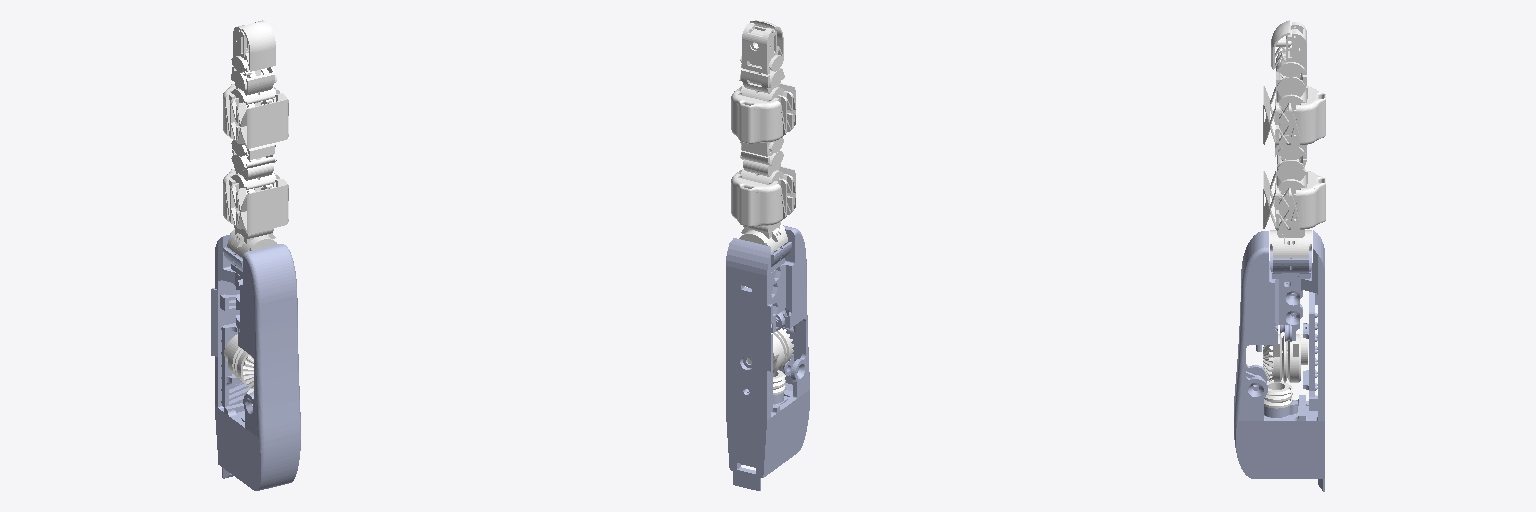
robot.urdf — finger_mujoco:
<?xml version="1.0" encoding="utf-8"?>
<!-- This URDF was automatically created by SolidWorks to URDF Exporter! Originally created by Stephen Brawner (brawner@gmail.com) 
     Commit Version: 1.6.0-4-g7f85cfe  Build Version: 1.6.7995.38578
     For more information, please see http://wiki.ros.org/sw_urdf_exporter -->
<robot
  name="finger_mujoco">
  <mujoco>
    <compiler meshdir="meshes/"
              balanceinertia="true"
              strippath="false"/>
  </mujoco>
  <link
    name="palm_link">
    <inertial>
      <origin
        xyz="3.095E-05 -0.018207 0.055563"
        rpy="0 0 0" />
      <mass
        value="0.03804" />
      <inertia
        ixx="3.3736E-05"
        ixy="1.4396E-08"
        ixz="-1.8165E-08"
        iyy="3.0294E-05"
        iyz="-4.5681E-07"
        izz="5.8025E-06" />
    </inertial>
    <visual>
      <origin
        xyz="0 0 0"
        rpy="0 0 0" />
      <geometry>
        <mesh
          filename="palm_link.STL" />
      </geometry>
      <material
        name="">
        <color
          rgba="0.79216 0.81961 0.93333 1" />
      </material>
    </visual>
    <collision>
      <origin
        xyz="0 0 0"
        rpy="0 0 0" />
      <geometry>
        <mesh
          filename="palm_link.STL" />
      </geometry>
    </collision>
  </link>
  <link
    name="servo_pulley_link">
    <inertial>
      <origin
        xyz="1.7347E-18 0.0033461 3.4694E-18"
        rpy="0 0 0" />
      <mass
        value="0.00064912" />
      <inertia
        ixx="1.1532E-08"
        ixy="8.4169E-25"
        ixz="2.0525E-10"
        iyy="1.7526E-08"
        iyz="-1.34E-24"
        izz="1.1469E-08" />
    </inertial>
    <visual>
      <origin
        xyz="0 0 0"
        rpy="0 0 0" />
      <geometry>
        <mesh
          filename="servo_pulley_link.STL" />
      </geometry>
      <material
        name="">
        <color
          rgba="1 1 1 1" />
      </material>
    </visual>
    <collision>
      <origin
        xyz="0 0 0"
        rpy="0 0 0" />
      <geometry>
        <mesh
          filename="servo_pulley_link.STL" />
      </geometry>
    </collision>
  </link>
  <joint
    name="joint_servo"
    type="continuous">
    <origin
      xyz="0.00010005 -0.0199 0.038"
      rpy="1.5708 0 0.41034" />
    <parent
      link="palm_link" />
    <child
      link="servo_pulley_link" />
    <axis
      xyz="0 1 0" />
    <limit
      lower="-1.57"
      upper="1.57"
      effort="0"
      velocity="0" />
  </joint>
  <link
    name="motor_pulley_link">
    <inertial>
      <origin
        xyz="-0.00028931 0.0095592 -0.00028355"
        rpy="0 0 0" />
      <mass
        value="0.0053624" />
      <inertia
        ixx="2.4087E-07"
        ixy="-1.1788E-08"
        ixz="-1.6646E-08"
        iyy="2.5237E-07"
        iyz="-1.1554E-08"
        izz="2.4154E-07" />
    </inertial>
    <visual>
      <origin
        xyz="0 0 0"
        rpy="0 0 0" />
      <geometry>
        <mesh
          filename="motor_pulley_link.STL" />
      </geometry>
      <material
        name="">
        <color
          rgba="1 1 1 1" />
      </material>
    </visual>
    <collision>
      <origin
        xyz="0 0 0"
        rpy="0 0 0" />
      <geometry>
        <mesh
          filename="motor_pulley_link.STL" />
      </geometry>
    </collision>
  </link>
  <joint
    name="joint_motor"
    type="continuous">
    <origin
      xyz="0 -0.0065 0.0575"
      rpy="3.1416 0.012337 0" />
    <parent
      link="palm_link" />
    <child
      link="motor_pulley_link" />
    <axis
      xyz="0 1 0" />
    <limit
      lower="-3.12"
      upper="3.12"
      effort="0"
      velocity="0" />
  </joint>
  <link
    name="phalanx1_link1_abd">
    <inertial>
      <origin
        xyz="-5.9722E-05 -0.0084809 -0.0081966"
        rpy="0 0 0" />
      <mass
        value="0.0025141" />
      <inertia
        ixx="6.0121E-08"
        ixy="3.0279E-10"
        ixz="-2.3517E-09"
        iyy="6.5393E-08"
        iyz="1.1194E-09"
        izz="9.328E-08" />
    </inertial>
    <visual>
      <origin
        xyz="0 0 0"
        rpy="0 0 0" />
      <geometry>
        <mesh
          filename="phalanx1_link1_abd.STL" />
      </geometry>
      <material
        name="">
        <color
          rgba="1 1 1 1" />
      </material>
    </visual>
    <collision>
      <origin
        xyz="0 0 0"
        rpy="0 0 0" />
      <geometry>
        <mesh
          filename="phalanx1_link1_abd.STL" />
      </geometry>
    </collision>
  </link>
  <joint
    name="joint0_abd"
    type="revolute">
    <origin
      xyz="0.00025 -0.0054079 0.10695"
      rpy="3.1416 0 3.1416" />
    <parent
      link="palm_link" />
    <child
      link="phalanx1_link1_abd" />
    <axis
      xyz="0 1 0" />
    <limit
      lower="-0.7"
      upper="0.7"
      effort="0"
      velocity="0" />
  </joint>
  <link
    name="phalanx_link1_prx">
    <inertial>
      <origin
        xyz="0.0031611 0.00033176 -0.0057507"
        rpy="0 0 0" />
      <mass
        value="0.0059145" />
      <inertia
        ixx="3.5462E-07"
        ixy="1.5123E-10"
        ixz="2.5381E-09"
        iyy="3.7855E-07"
        iyz="3.2223E-10"
        izz="5.0077E-07" />
    </inertial>
    <visual>
      <origin
        xyz="0 0 0"
        rpy="0 0 0" />
      <geometry>
        <mesh
          filename="phalanx_link1_prx.STL" />
      </geometry>
      <material
        name="">
        <color
          rgba="1 1 1 1" />
      </material>
    </visual>
    <collision>
      <origin
        xyz="0 0 0"
        rpy="0 0 0" />
      <geometry>
        <mesh
          filename="phalanx_link1_prx.STL" />
      </geometry>
    </collision>
  </link>
  <joint
    name="joint1_prx"
    type="revolute">
    <origin
      xyz="0 -0.0085921 -0.01705"
      rpy="0 0 1.5708" />
    <parent
      link="phalanx1_link1_abd" />
    <child
      link="phalanx_link1_prx" />
    <axis
      xyz="0 1 0" />
    <limit
      lower="-0.7"
      upper="0.7"
      effort="0"
      velocity="0" />
  </joint>
  <link
    name="phalanx1_link2_prx">
    <inertial>
      <origin
        xyz="0.00029466 0.00025493 -0.0078726"
        rpy="0 0 0" />
      <mass
        value="0.002014" />
      <inertia
        ixx="4.8364E-08"
        ixy="1.488E-10"
        ixz="1.2553E-10"
        iyy="3.3878E-08"
        iyz="1.3325E-09"
        izz="5.9571E-08" />
    </inertial>
    <visual>
      <origin
        xyz="0 0 0"
        rpy="0 0 0" />
      <geometry>
        <mesh
          filename="phalanx1_link2_prx.STL" />
      </geometry>
      <material
        name="">
        <color
          rgba="1 1 1 1" />
      </material>
    </visual>
    <collision>
      <origin
        xyz="0 0 0"
        rpy="0 0 0" />
      <geometry>
        <mesh
          filename="phalanx1_link2_prx.STL" />
      </geometry>
    </collision>
  </link>
  <joint
    name="joint2_prx"
    type="revolute">
    <origin
      xyz="0 0 -0.0114"
      rpy="0 0 0" />
    <parent
      link="phalanx_link1_prx" />
    <child
      link="phalanx1_link2_prx" />
    <axis
      xyz="0 1 0" />
    <limit
      lower="-0.7"
      upper="0.7"
      effort="0"
      velocity="0" />
  </joint>
  <link
    name="phalanx_link1_int">
    <inertial>
      <origin
        xyz="0.00043592 0.00033932 -0.005629"
        rpy="0 0 0" />
      <mass
        value="0.0015511" />
      <inertia
        ixx="4.1412E-08"
        ixy="1.0185E-09"
        ixz="7.2498E-10"
        iyy="3.6368E-08"
        iyz="3.0891E-10"
        izz="5.6225E-08" />
    </inertial>
    <visual>
      <origin
        xyz="0 0 0"
        rpy="0 0 0" />
      <geometry>
        <mesh
          filename="phalanx_link1_int.STL" />
      </geometry>
      <material
        name="">
        <color
          rgba="1 1 1 1" />
      </material>
    </visual>
    <collision>
      <origin
        xyz="0 0 0"
        rpy="0 0 0" />
      <geometry>
        <mesh
          filename="phalanx_link1_int.STL" />
      </geometry>
    </collision>
  </link>
  <joint
    name="joint3_int"
    type="revolute">
    <origin
      xyz="0 0 -0.01555"
      rpy="0 0 0" />
    <parent
      link="phalanx1_link2_prx" />
    <child
      link="phalanx_link1_int" />
    <axis
      xyz="0 1 0" />
    <limit
      lower="-0.7"
      upper="0.7"
      effort="0"
      velocity="0" />
  </joint>
  <link
    name="phalanx_link2_int">
    <inertial>
      <origin
        xyz="0.0033404 0.00030416 -0.0057723"
        rpy="0 0 0" />
      <mass
        value="0.0057585" />
      <inertia
        ixx="3.4985E-07"
        ixy="-1.1057E-09"
        ixz="1.622E-09"
        iyy="3.7085E-07"
        iyz="6.9298E-10"
        izz="4.8937E-07" />
    </inertial>
    <visual>
      <origin
        xyz="0 0 0"
        rpy="0 0 0" />
      <geometry>
        <mesh
          filename="phalanx_link2_int.STL" />
      </geometry>
      <material
        name="">
        <color
          rgba="1 1 1 1" />
      </material>
    </visual>
    <collision>
      <origin
        xyz="0 0 0"
        rpy="0 0 0" />
      <geometry>
        <mesh
          filename="phalanx_link2_int.STL" />
      </geometry>
    </collision>
  </link>
  <joint
    name="joint4_int"
    type="revolute">
    <origin
      xyz="0 0 -0.0114"
      rpy="0 0 0" />
    <parent
      link="phalanx_link1_int" />
    <child
      link="phalanx_link2_int" />
    <axis
      xyz="0 1 0" />
    <limit
      lower="-0.7"
      upper="0.7"
      effort="0"
      velocity="0" />
  </joint>
  <link
    name="phalanx_link3_int">
    <inertial>
      <origin
        xyz="9.7987E-05 -0.00025512 0.0076047"
        rpy="0 0 0" />
      <mass
        value="0.0019386" />
      <inertia
        ixx="4.7362E-08"
        ixy="-1.0401E-10"
        ixz="6.6045E-10"
        iyy="3.3402E-08"
        iyz="1.2609E-09"
        izz="6.1046E-08" />
    </inertial>
    <visual>
      <origin
        xyz="0 0 0"
        rpy="0 0 0" />
      <geometry>
        <mesh
          filename="phalanx_link3_int.STL" />
      </geometry>
      <material
        name="">
        <color
          rgba="1 1 1 1" />
      </material>
    </visual>
    <collision>
      <origin
        xyz="0 0 0"
        rpy="0 0 0" />
      <geometry>
        <mesh
          filename="phalanx_link3_int.STL" />
      </geometry>
    </collision>
  </link>
  <joint
    name="joint5_int"
    type="revolute">
    <origin
      xyz="0 0 -0.0114"
      rpy="3.1416 0 0" />
    <parent
      link="phalanx_link2_int" />
    <child
      link="phalanx_link3_int" />
    <axis
      xyz="0 1 0" />
    <limit
      lower="-0.7"
      upper="0.7"
      effort="0"
      velocity="0" />
  </joint>
  <link
    name="phalanx_link1_dis">
    <inertial>
      <origin
        xyz="-0.00010858 0.00025287 -0.0094074"
        rpy="0 0 0" />
      <mass
        value="0.0023104" />
      <inertia
        ixx="9.5883E-08"
        ixy="4.6265E-11"
        ixz="-5.4334E-10"
        iyy="9.9427E-08"
        iyz="-1.2984E-11"
        izz="7.7015E-08" />
    </inertial>
    <visual>
      <origin
        xyz="0 0 0"
        rpy="0 0 0" />
      <geometry>
        <mesh
          filename="phalanx_link1_dis.STL" />
      </geometry>
      <material
        name="">
        <color
          rgba="1 1 1 1" />
      </material>
    </visual>
    <collision>
      <origin
        xyz="0 0 0"
        rpy="0 0 0" />
      <geometry>
        <mesh
          filename="phalanx_link1_dis.STL" />
      </geometry>
    </collision>
  </link>
  <joint
    name="joint6_dis"
    type="revolute">
    <origin
      xyz="0 0 0.0149"
      rpy="3.1416 0 0" />
    <parent
      link="phalanx_link3_int" />
    <child
      link="phalanx_link1_dis" />
    <axis
      xyz="0 1 0" />
    <limit
      lower="-0.7"
      upper="0.7"
      effort="0"
      velocity="0" />
  </joint>
</robot>

--- Facts derived from the render (not from the file) ---
The picture shows the robot from 3 angles, left to right: view 1: azimuth 30°, elevation 25°; view 2: azimuth 150°, elevation 25°; view 3: azimuth 270°, elevation 25°; orthographic projection.
Robot: finger_mujoco — 10 links, 9 joints (7 revolute, 2 continuous); root link palm_link; default pose: all joints at 0.
Visible links, largest first — view 1: palm_link, phalanx_link2_int, phalanx_link1_prx, phalanx_link1_dis, phalanx_link3_int, phalanx1_link2_prx, motor_pulley_link, phalanx1_link1_abd; view 2: palm_link, phalanx_link1_prx, phalanx_link2_int, phalanx_link1_dis, phalanx1_link2_prx, phalanx_link3_int, phalanx1_link1_abd, motor_pulley_link; view 3: palm_link, phalanx_link1_prx, phalanx_link2_int, phalanx_link1_dis, motor_pulley_link, phalanx1_link1_abd, phalanx1_link2_prx, phalanx_link3_int, servo_pulley_link, phalanx_link1_int.
Boxes of the visible links, x1,y1,x2,y2 form: palm_link: (211, 234, 300, 490); phalanx_link2_int: (223, 82, 288, 148); phalanx_link1_prx: (223, 168, 288, 233); phalanx_link1_dis: (231, 20, 275, 74); phalanx_link3_int: (231, 66, 276, 104); phalanx1_link2_prx: (231, 150, 276, 189); motor_pulley_link: (224, 334, 253, 388); phalanx1_link1_abd: (227, 225, 276, 257); palm_link: (726, 225, 809, 490); phalanx_link1_prx: (731, 166, 795, 226); phalanx_link2_int: (731, 83, 795, 143); phalanx_link1_dis: (740, 20, 783, 74); phalanx1_link2_prx: (740, 151, 783, 184); phalanx_link3_int: (739, 65, 784, 101); phalanx1_link1_abd: (739, 221, 787, 253); motor_pulley_link: (748, 328, 793, 372); palm_link: (1234, 230, 1324, 491); phalanx_link1_prx: (1263, 170, 1325, 229); phalanx_link2_int: (1263, 86, 1325, 144); phalanx_link1_dis: (1271, 20, 1306, 76); motor_pulley_link: (1263, 334, 1307, 382); phalanx1_link1_abd: (1270, 218, 1311, 257); phalanx1_link2_prx: (1277, 155, 1306, 194); phalanx_link3_int: (1276, 72, 1306, 109); servo_pulley_link: (1264, 381, 1292, 408); phalanx_link1_int: (1275, 130, 1306, 159).
Size in the robot's own frame: 0.0239 by 0.0379 by 0.2091 metres.
10 mesh visuals loaded from 10 distinct referenced files (10 binary STL).
